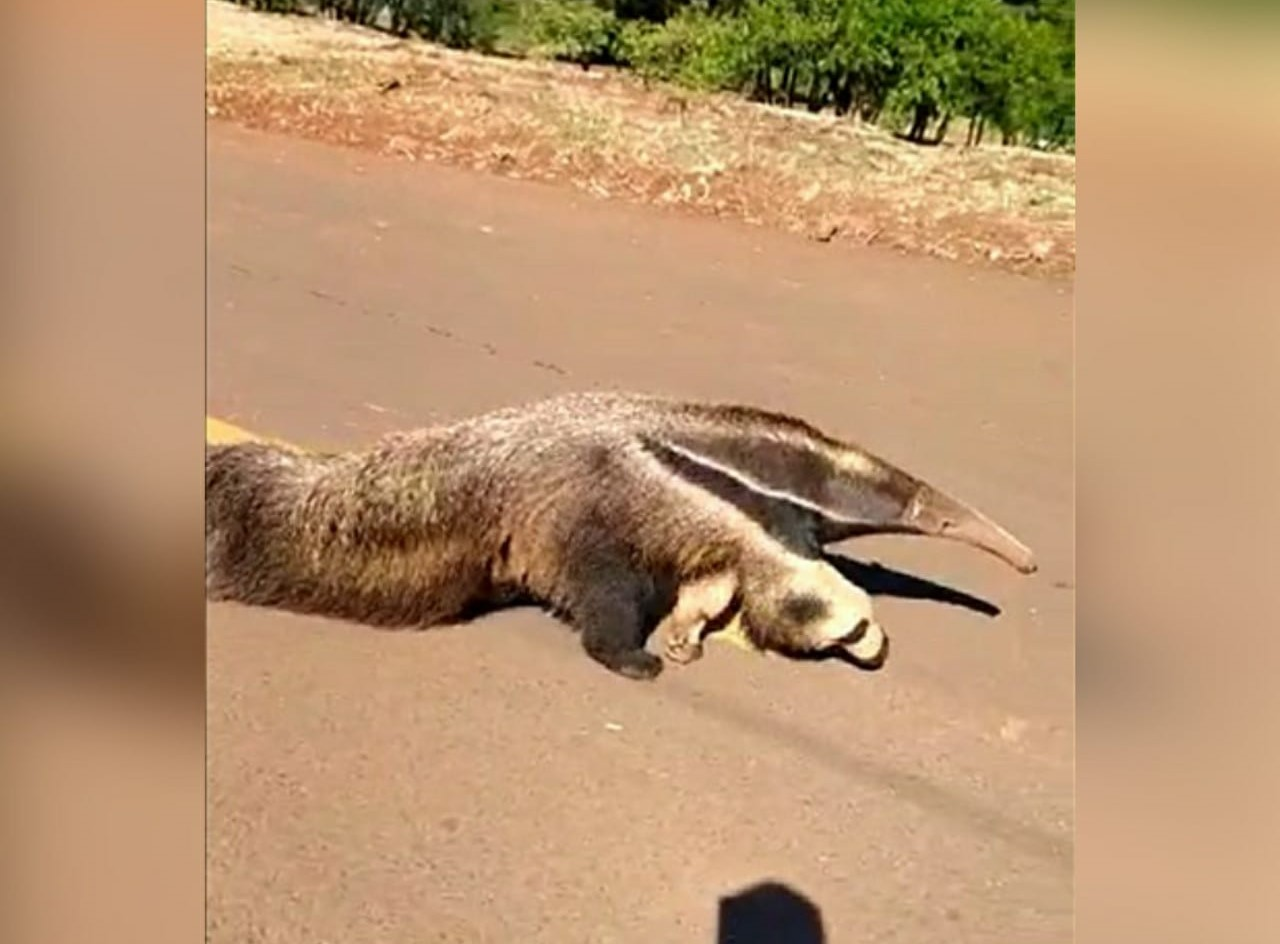TamanduaBandeira: (215, 385, 1045, 686)
